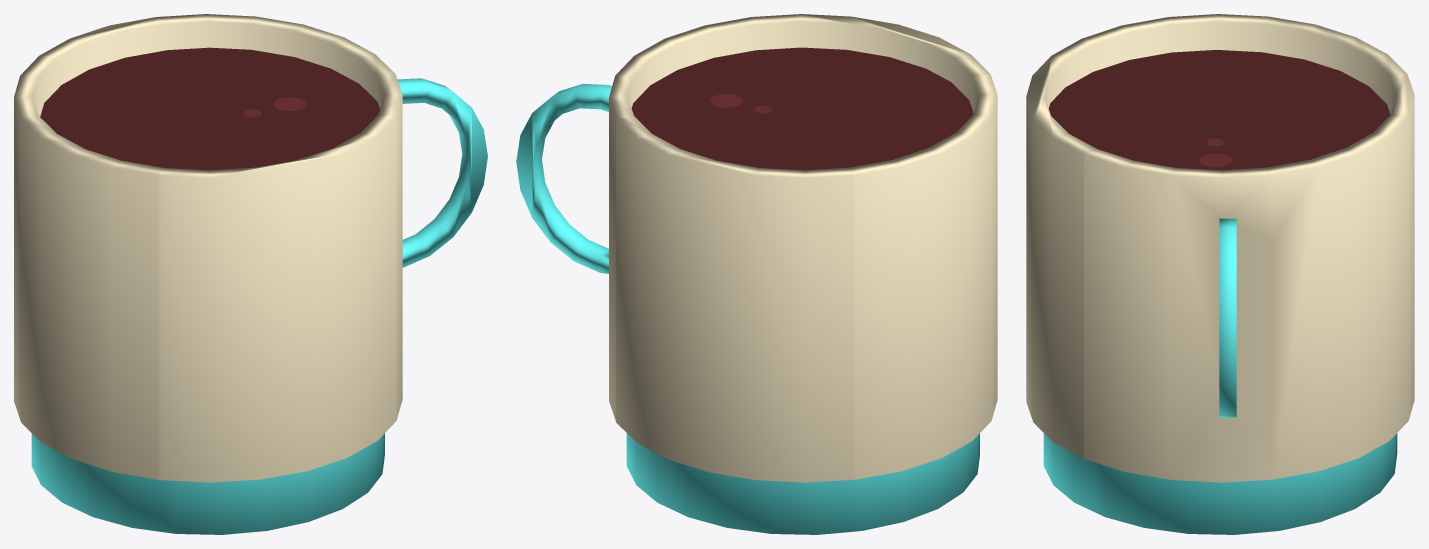
3 views of the same model, side by side, from view 1: azimuth 30°, elevation 25°; view 2: azimuth 150°, elevation 25°; view 3: azimuth 270°, elevation 25° (orthographic).
Visible parts, largest first — view 1: mesh2-geometry-0, mesh1-geometry-1, mesh3-geometry-0, mesh2-geometry-2; view 2: mesh2-geometry-0, mesh1-geometry-1, mesh3-geometry-0, mesh2-geometry-2; view 3: mesh2-geometry-0, mesh1-geometry-1, mesh3-geometry-0, mesh2-geometry-2, mesh1-geometry-2.
Boxes of the visible parts, <box> form: mesh2-geometry-0: <box>14,14,402,482</box>; mesh1-geometry-1: <box>40,47,379,170</box>; mesh3-geometry-0: <box>31,433,384,534</box>; mesh2-geometry-2: <box>397,78,487,267</box>; mesh2-geometry-0: <box>609,14,997,482</box>; mesh1-geometry-1: <box>631,47,973,170</box>; mesh3-geometry-0: <box>626,433,979,534</box>; mesh2-geometry-2: <box>516,84,611,273</box>; mesh2-geometry-0: <box>1026,14,1414,482</box>; mesh1-geometry-1: <box>1048,50,1390,170</box>; mesh3-geometry-0: <box>1043,433,1397,534</box>; mesh2-geometry-2: <box>1219,218,1236,417</box>; mesh1-geometry-2: <box>1199,138,1231,167</box>.
Bounding box in the file's own units: 0.6787 × 0.5279 × 0.5105.
